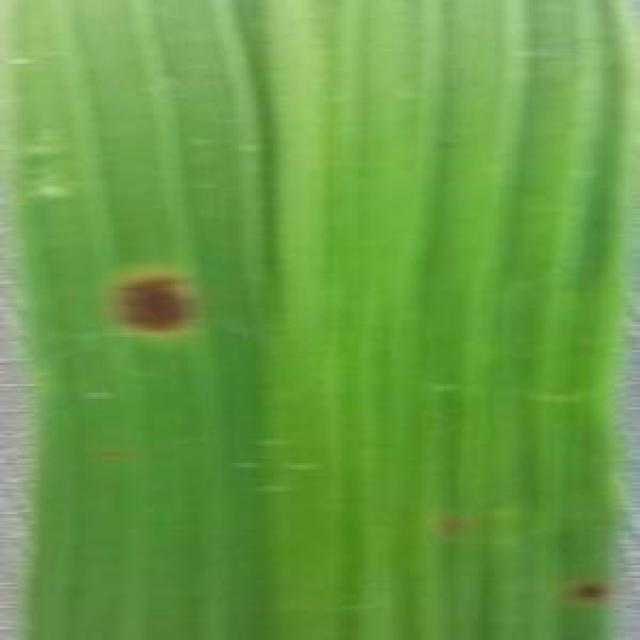brownspots: (113, 264, 192, 338), (572, 576, 610, 602), (440, 510, 470, 536)
